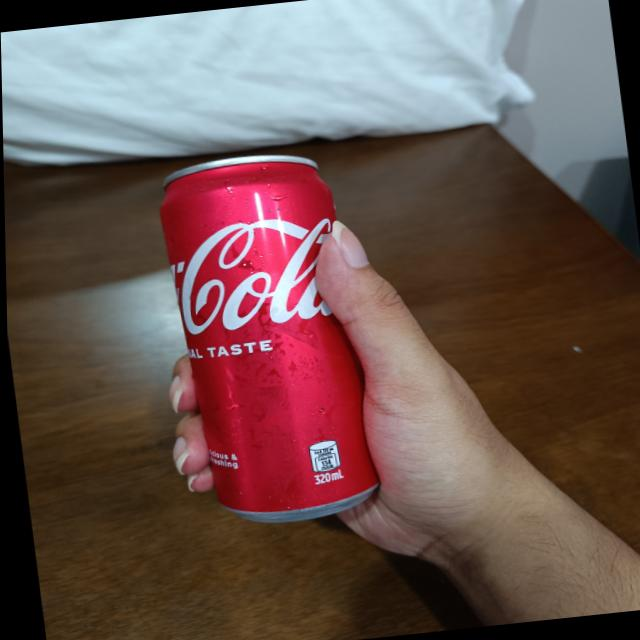coke: (167, 148, 375, 524)
